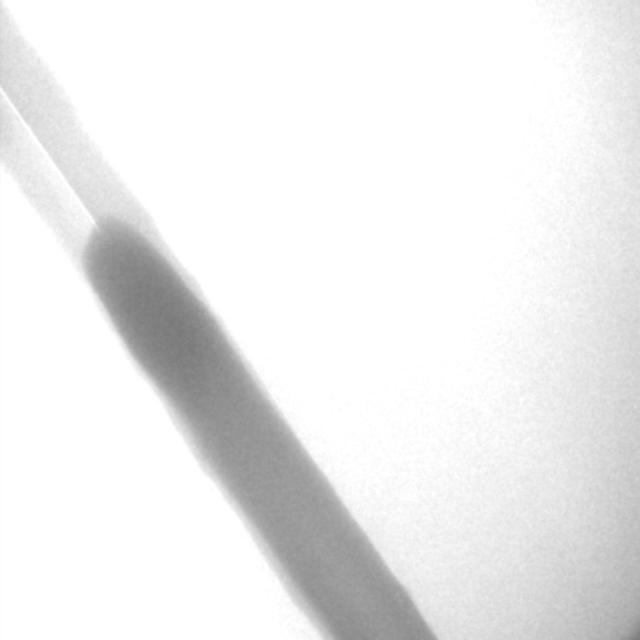broken arc: (1, 87, 96, 225)
